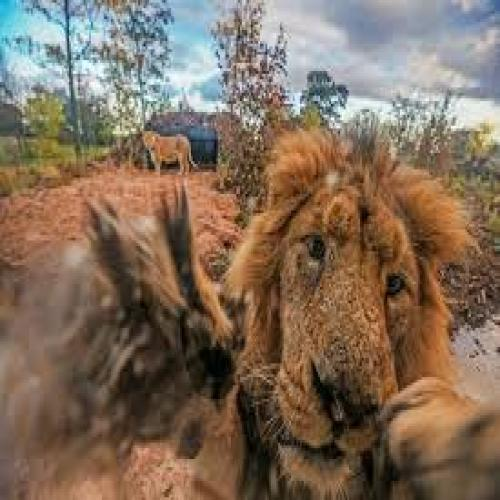lion-endangered: (17, 127, 496, 499), (140, 130, 196, 177)
